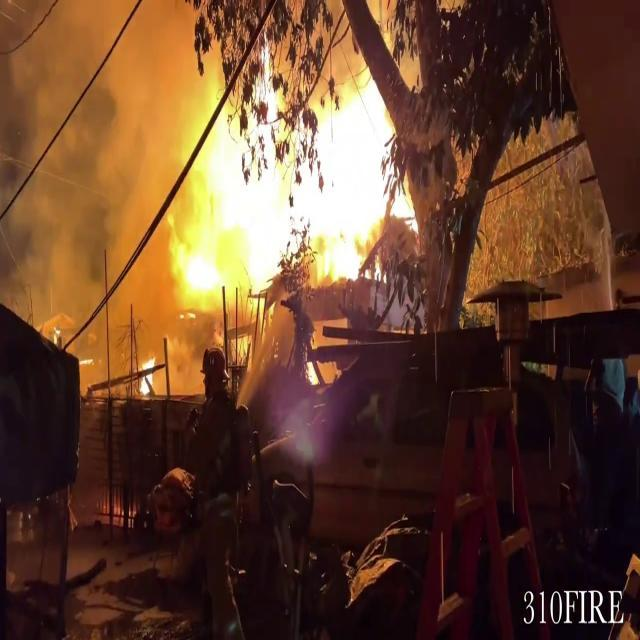Fire: (150, 35, 426, 312)
Smoke: (0, 0, 184, 378)
